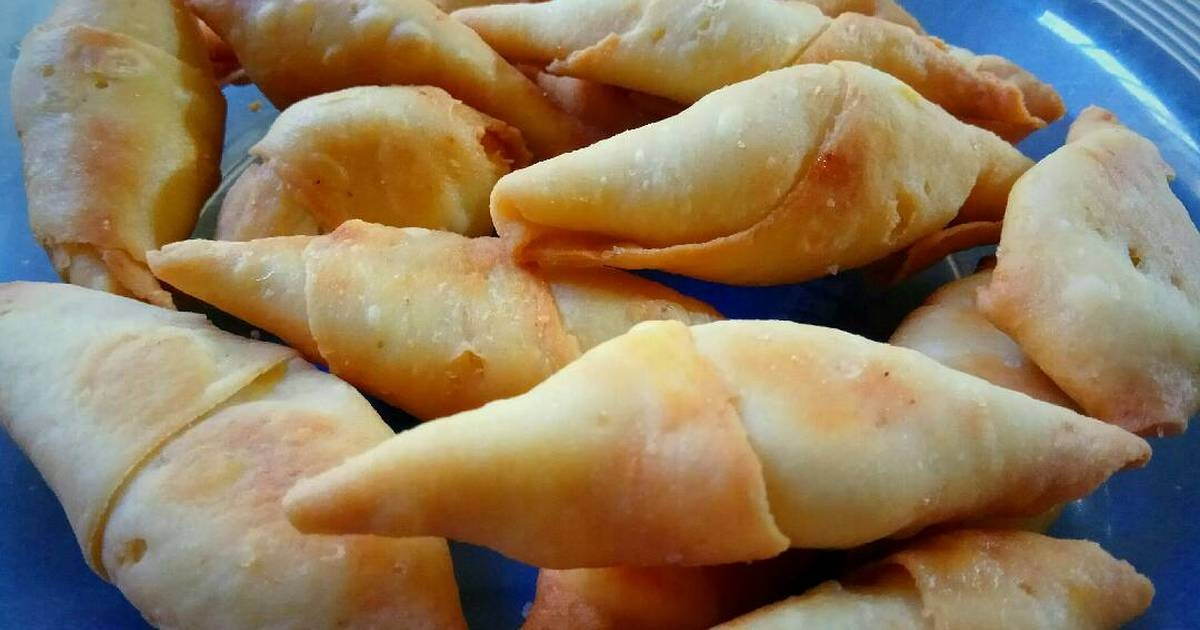pisang_molen: (277, 317, 1151, 562), (488, 62, 1004, 289)
